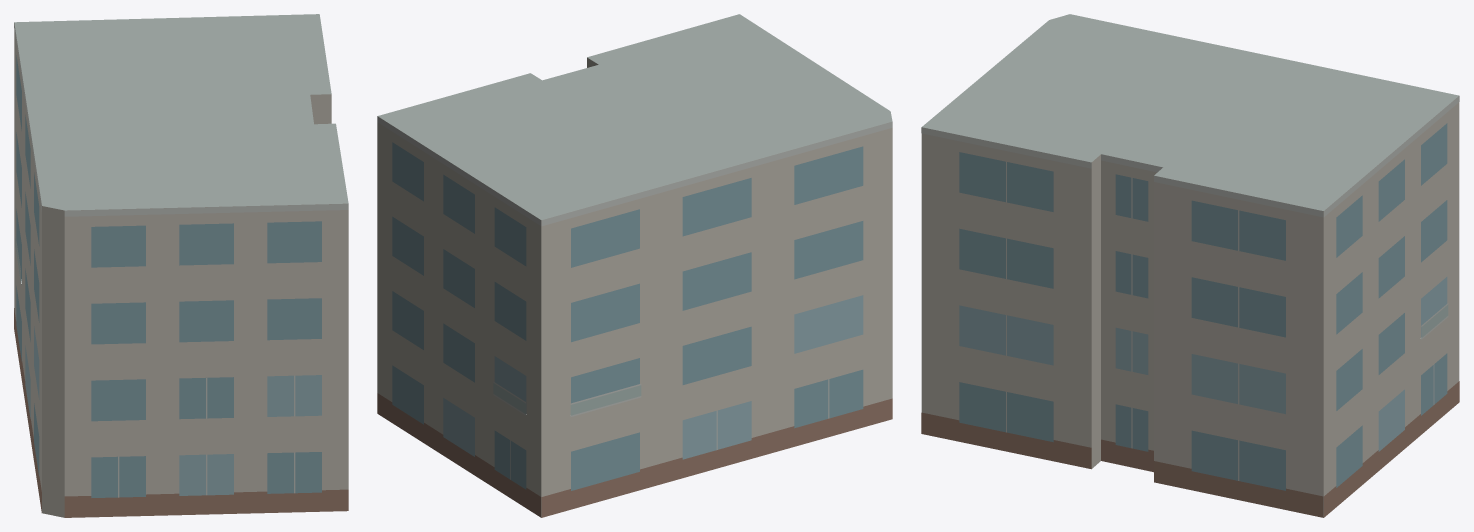
File: survey-upis-32893101.glb
The picture shows the model from 3 angles, left to right: view 1: azimuth 30°, elevation 25°; view 2: azimuth 150°, elevation 25°; view 3: azimuth 270°, elevation 25°; orthographic projection. The views are drawn at different scales.
Parts seen in each view (by area): view 1: survey-upis-32893101.tmp; view 2: survey-upis-32893101.tmp; view 3: survey-upis-32893101.tmp.
Boxes of the visible parts, x1=… form: survey-upis-32893101.tmp: x1=14, y1=14, x2=348, y2=517; survey-upis-32893101.tmp: x1=377, y1=14, x2=892, y2=517; survey-upis-32893101.tmp: x1=921, y1=14, x2=1459, y2=517.
Bounding box in the file's own units: 16.41 × 11.9 × 18.92.
